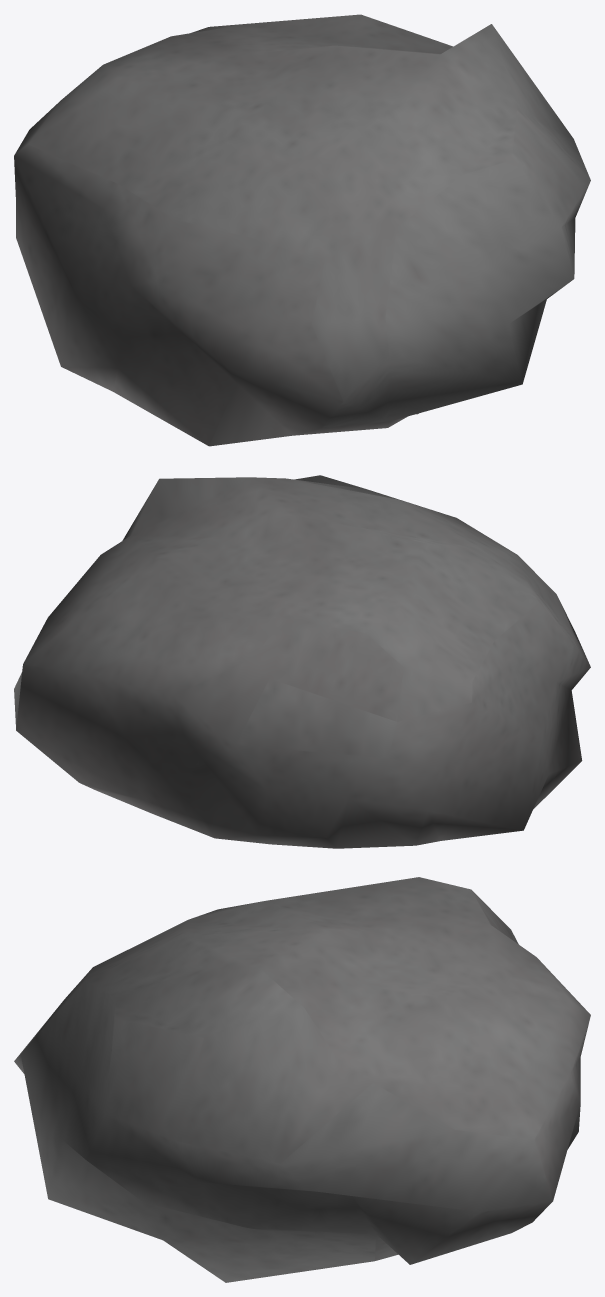
Rendered from Rock 1 Rubble.fbx.
The picture shows the model from 3 angles, top to bottom: view 1: azimuth 30°, elevation 25°; view 2: azimuth 150°, elevation 25°; view 3: azimuth 270°, elevation 25°; orthographic projection. The views are drawn at different scales.
Visible parts, largest first — view 1: Cube.001; view 2: Cube.001; view 3: Cube.001.
Part boxes in pixels (x1,y1,x2,y2): Cube.001: [14, 14, 590, 446]; Cube.001: [14, 475, 590, 848]; Cube.001: [14, 877, 590, 1282].
Size of the model in its own units: 32.87 by 22.24 by 34.61.
